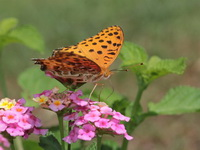Argyreus hyperbius: (25, 21, 145, 100)
butterfly: (27, 23, 147, 102)
